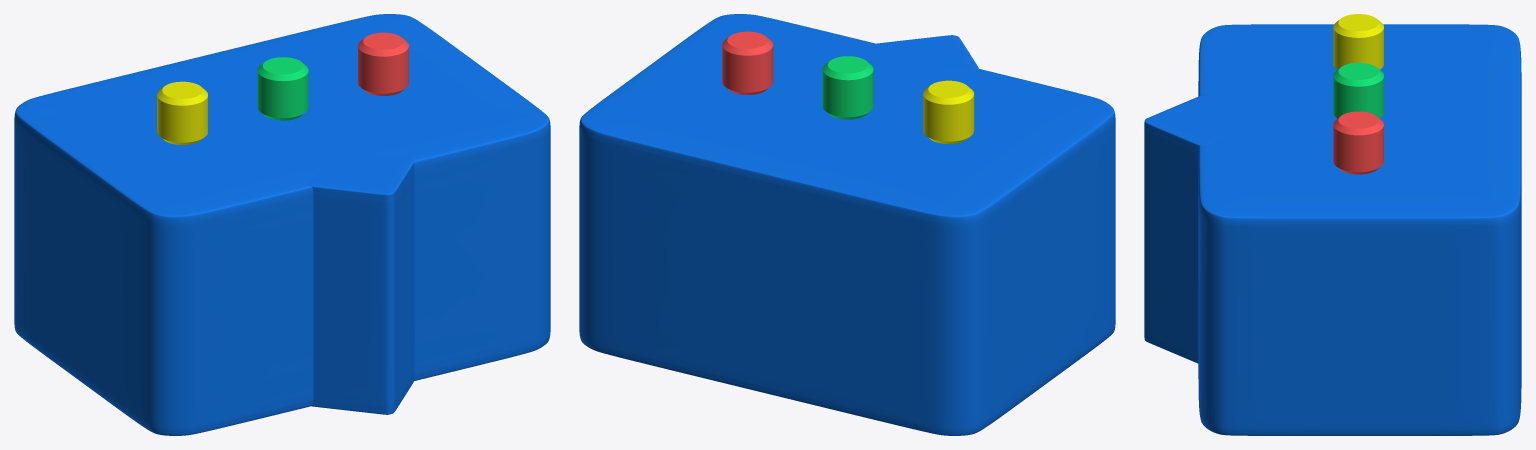
File: chat.glb
3 renders of one model, left to right at view 1: azimuth 30°, elevation 25°; view 2: azimuth 150°, elevation 25°; view 3: azimuth 270°, elevation 25°, orthographic.
Visible parts, largest first — view 1: Object_14; view 2: Object_14; view 3: Object_14.
Boxes of the visible parts, x1=… form: Object_14: x1=14, y1=14, x2=550, y2=435; Object_14: x1=579, y1=14, x2=1115, y2=435; Object_14: x1=1144, y1=14, x2=1521, y2=435.
Size of the model in its own units: 1.82 by 1.17 by 1.49.
